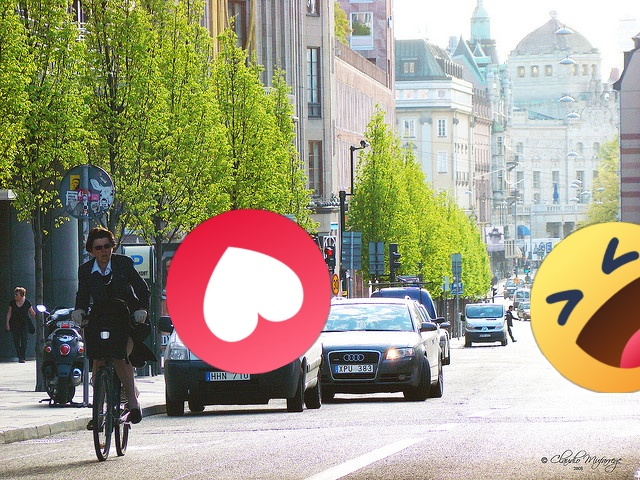haha: (530, 222, 640, 393)
love: (166, 209, 331, 374)
